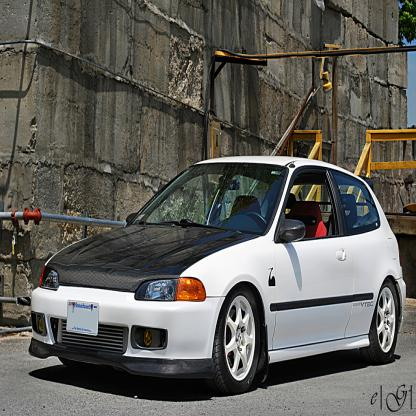Car: (29, 157, 407, 397)
